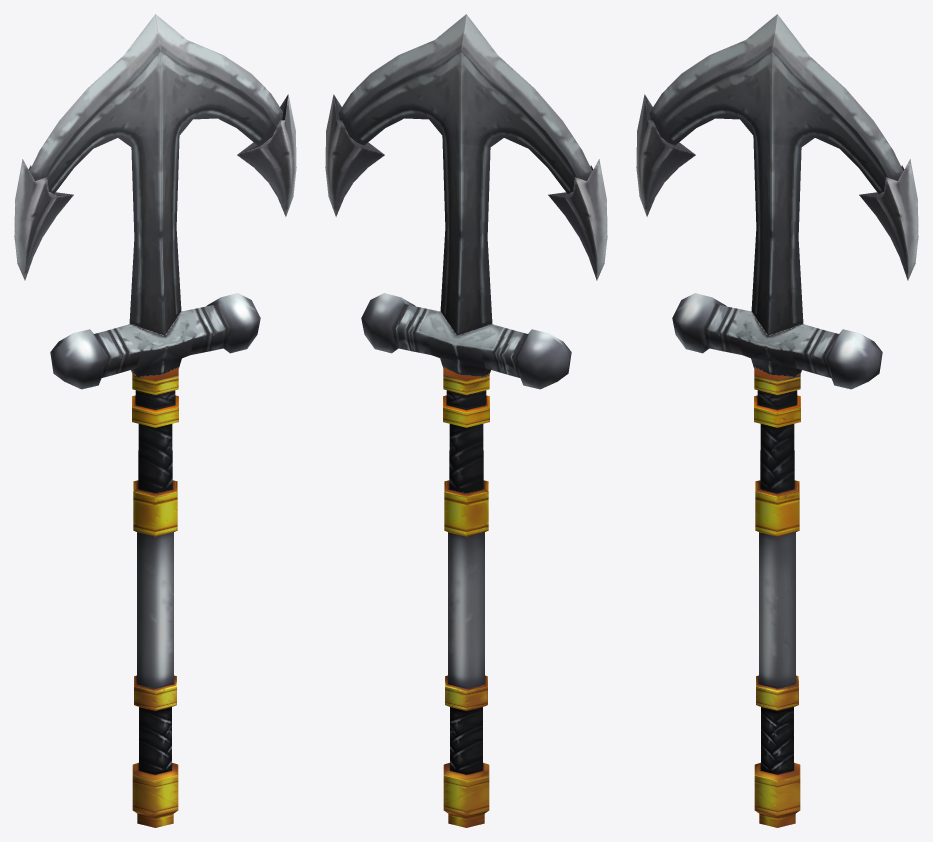
The model's file is haidao_Spear.FBX.
3 renders of one model, left to right at view 1: azimuth 30°, elevation 25°; view 2: azimuth 150°, elevation 25°; view 3: azimuth 330°, elevation 25°, orthographic.
Parts seen in each view (by area): view 1: polySurface86_polySurface83_polySurface81; view 2: polySurface86_polySurface83_polySurface81; view 3: polySurface86_polySurface83_polySurface81.
Boxes of the visible parts, bbox=[...] form: polySurface86_polySurface83_polySurface81: bbox=[14, 14, 296, 827]; polySurface86_polySurface83_polySurface81: bbox=[325, 14, 607, 827]; polySurface86_polySurface83_polySurface81: bbox=[636, 14, 918, 827].
Size of the model in its own units: 30.41 by 82.96 by 5.38.
